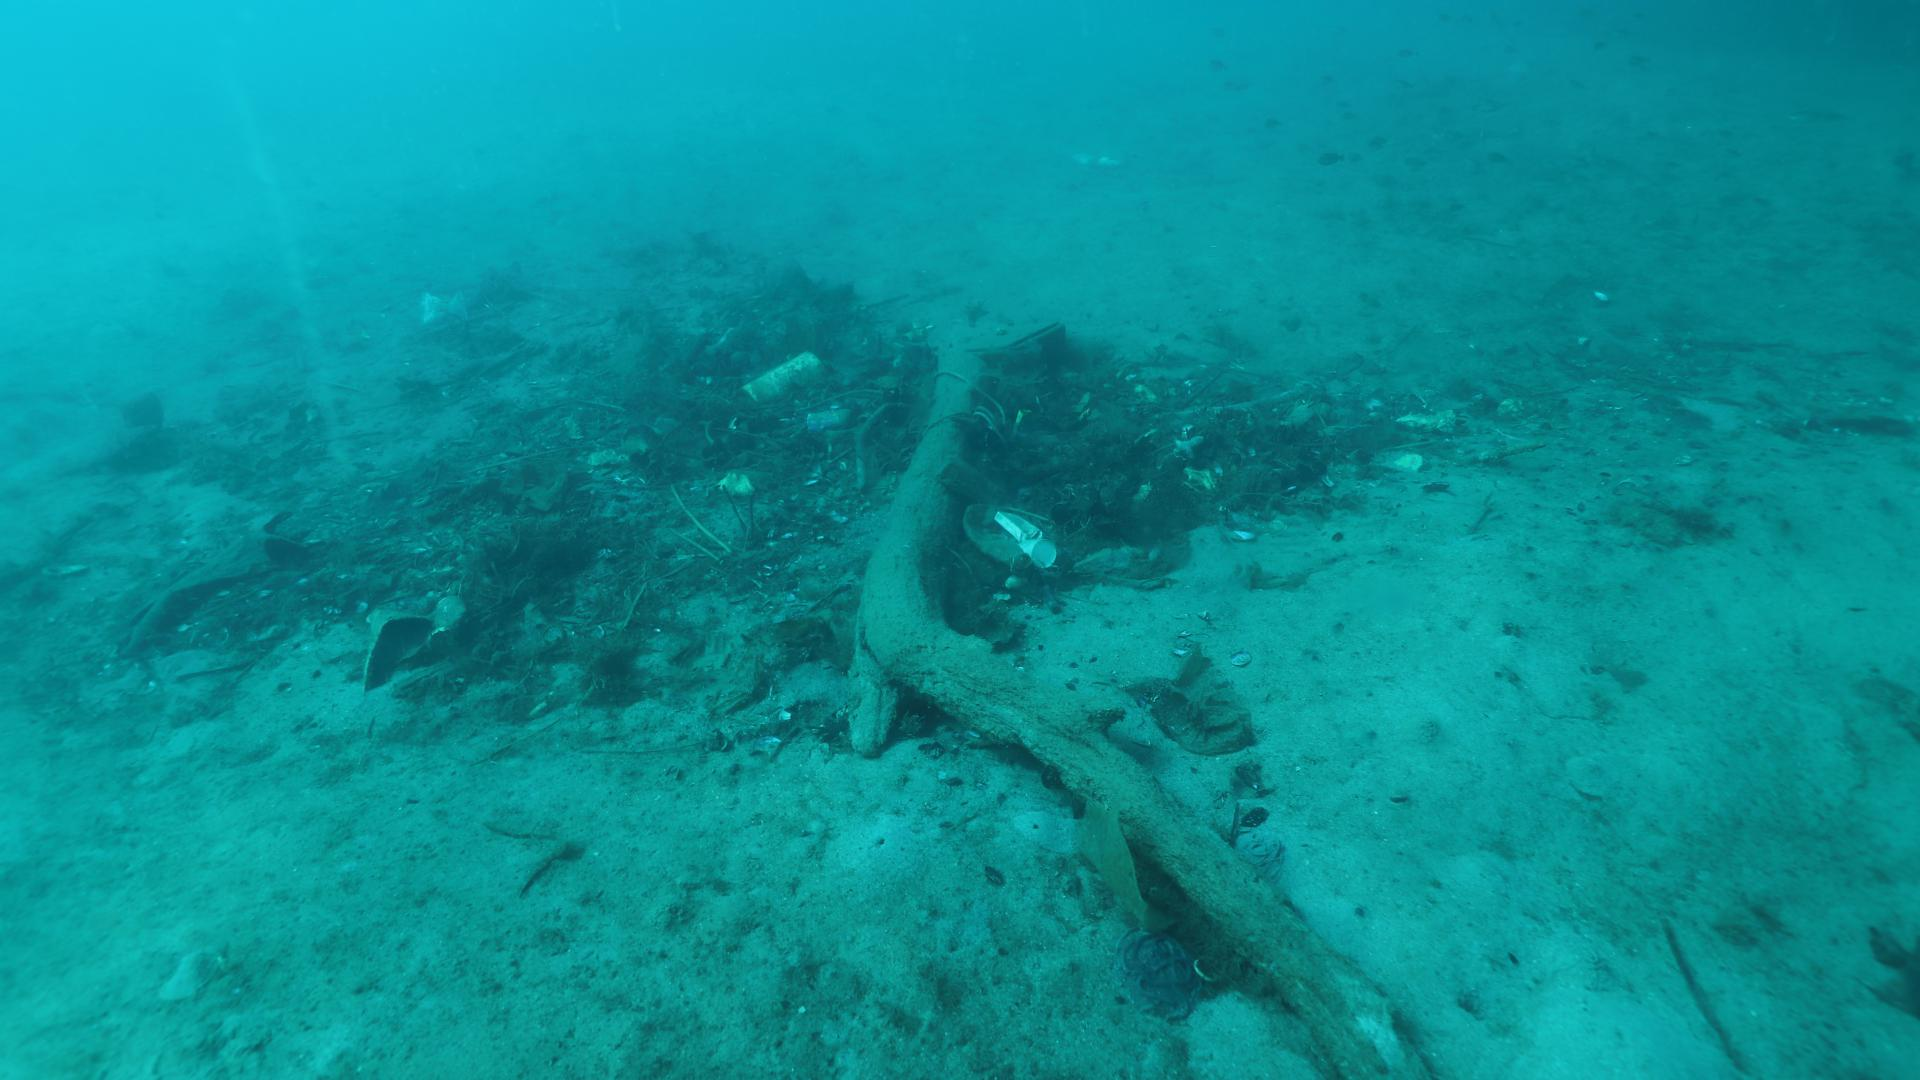wood: (860, 343, 1428, 1080)
